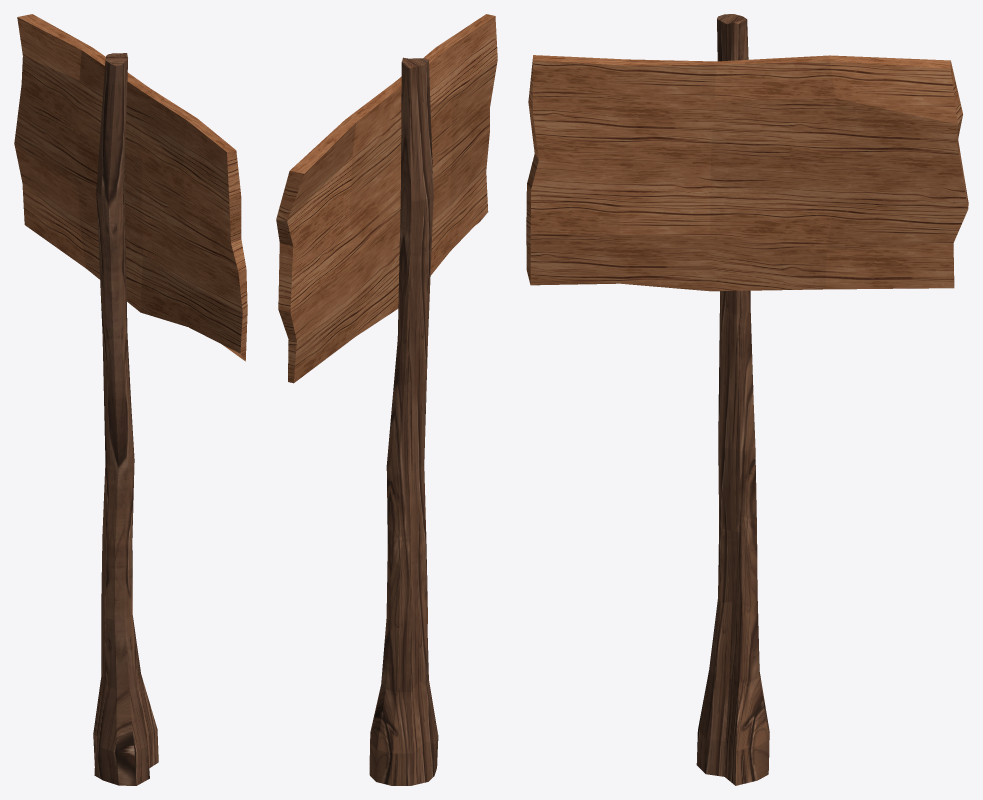
Rendered from tabula.fbx.
The picture shows the model from 3 angles, left to right: view 1: azimuth 30°, elevation 25°; view 2: azimuth 150°, elevation 25°; view 3: azimuth 270°, elevation 25°; orthographic projection. The views are drawn at different scales.
Parts seen in each view (by area): view 1: pasted__pCube2, pCylinder1; view 2: pasted__pCube2, pCylinder1; view 3: pasted__pCube2, pCylinder1.
Boxes of the visible parts, bbox=[...] form: pasted__pCube2: bbox=[14, 14, 247, 361]; pCylinder1: bbox=[93, 53, 158, 785]; pasted__pCube2: bbox=[276, 14, 497, 383]; pCylinder1: bbox=[369, 57, 438, 785]; pasted__pCube2: bbox=[526, 55, 968, 291]; pCylinder1: bbox=[696, 14, 769, 785].
Bounding box in the file's own units: 170 × 1882 × 1010.
2 materials, 2 textured.
